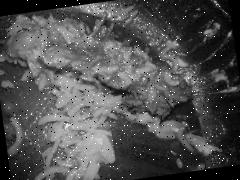organic: (0, 0, 209, 154)
